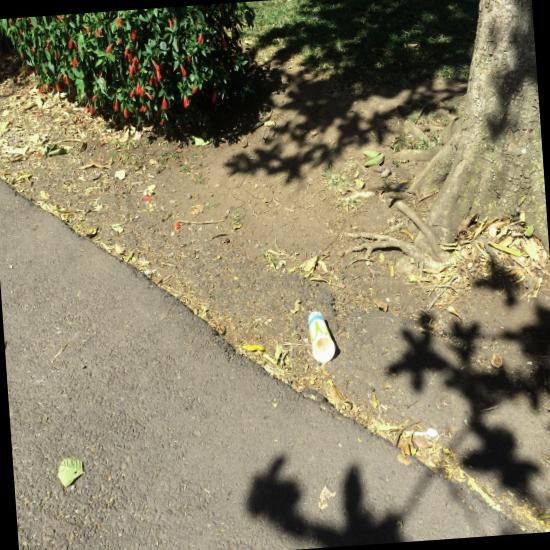Paper cup: (308, 311, 335, 362)
Plastic utensils: (405, 428, 438, 436)
